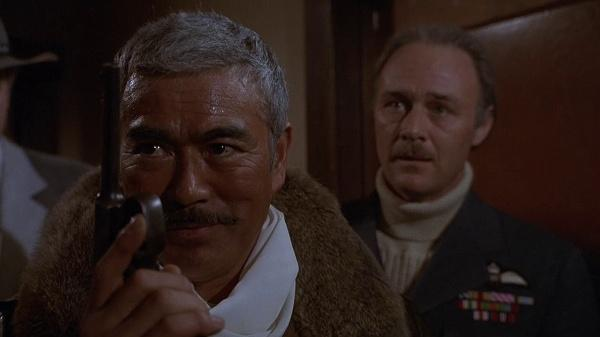Gun: (92, 59, 166, 270)
